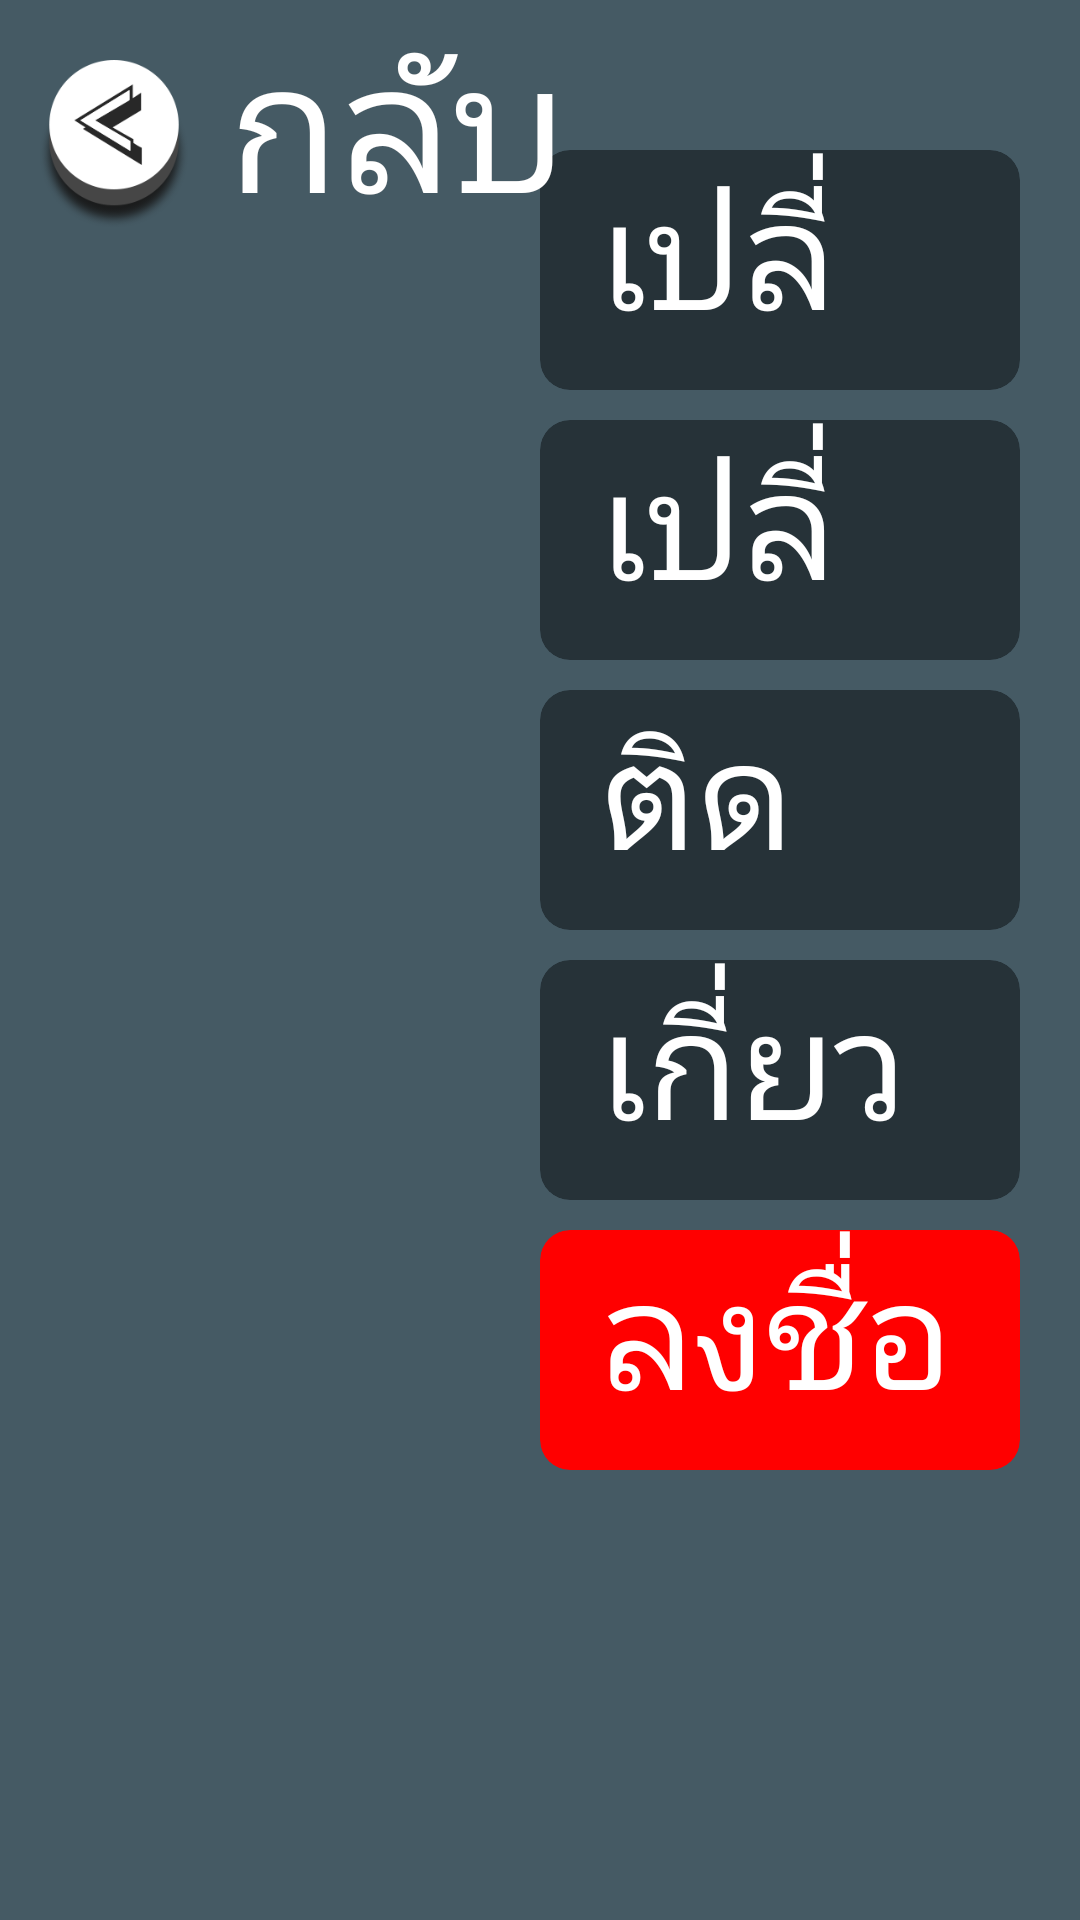

Screen size 1080 x 1920. Icon name, then its box in pixels as bbox(x1, y1, x2, y2):
back lesson: bbox(48, 60, 180, 220)
